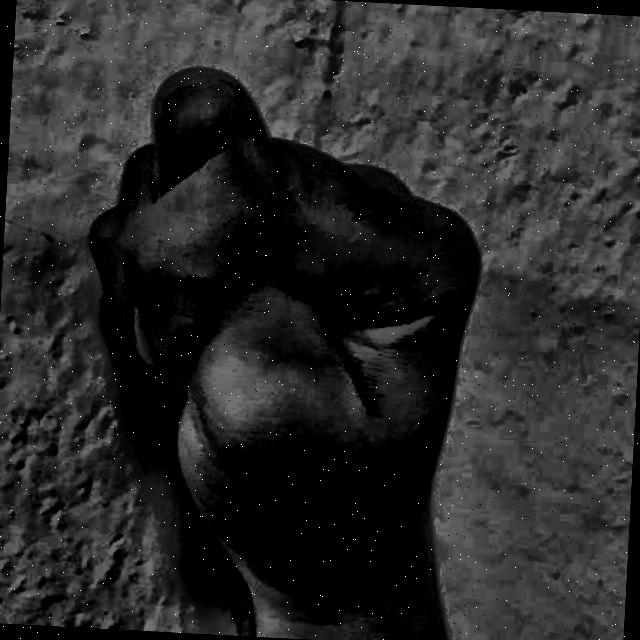Ta: (44, 22, 518, 640)
